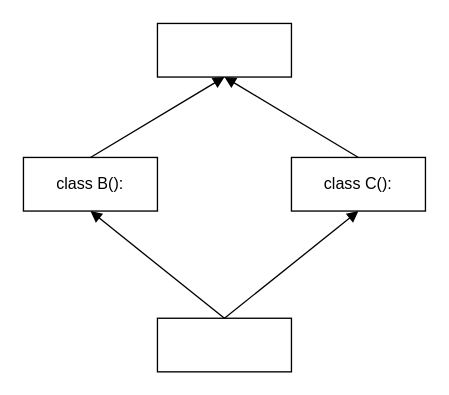
Image size: 449x395. Some labels were removed from this diagram. Here are the shapes that lost their labels. From the top down, the centre of each, then its label:
At pixel 223 49: "class A():".
At pixel 223 344: "class D():".
